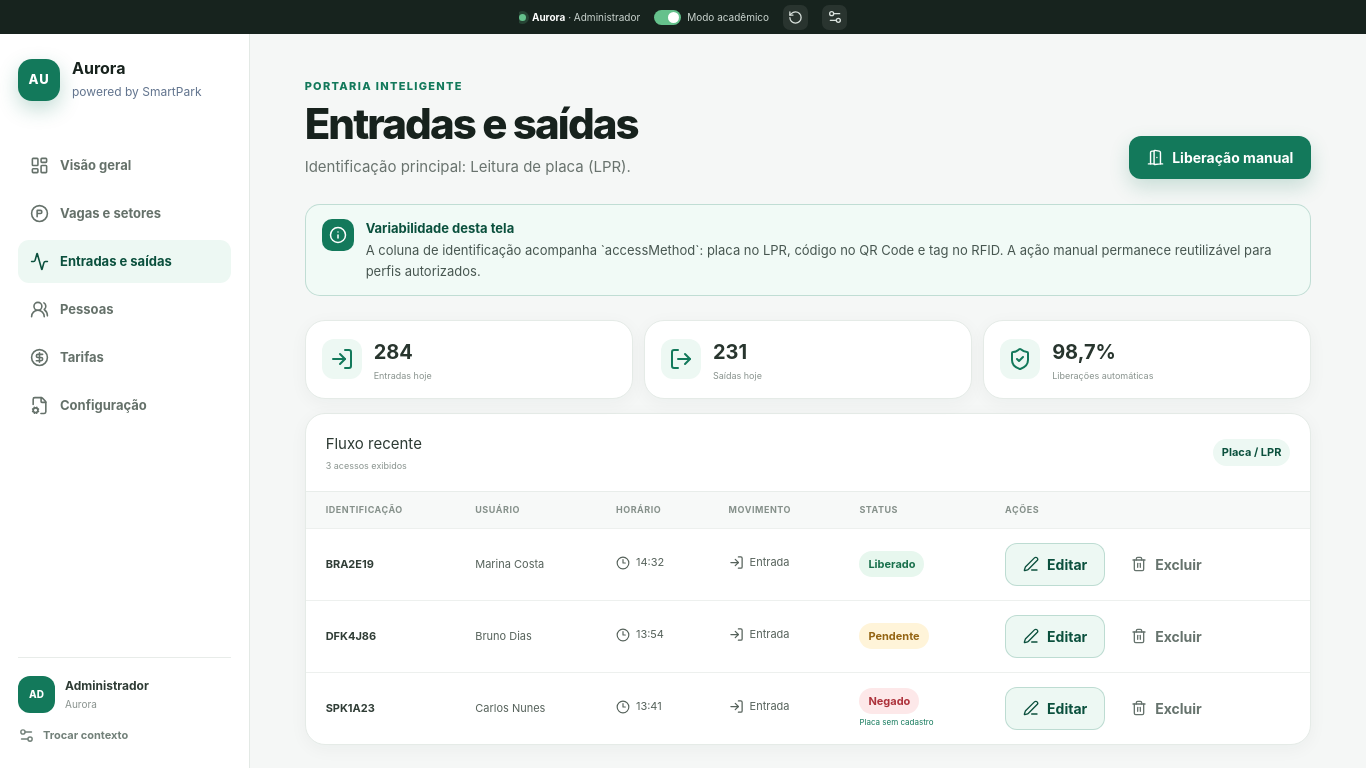
acessos (entradas e saídas) › não deixa mudar o status de um acesso já decidido
The width and height of the screenshot is (1366, 768).
Click the button with aria-label "Editar acesso de Marina Costa".
click(1055, 564)  # box [1005,543,1105,586]
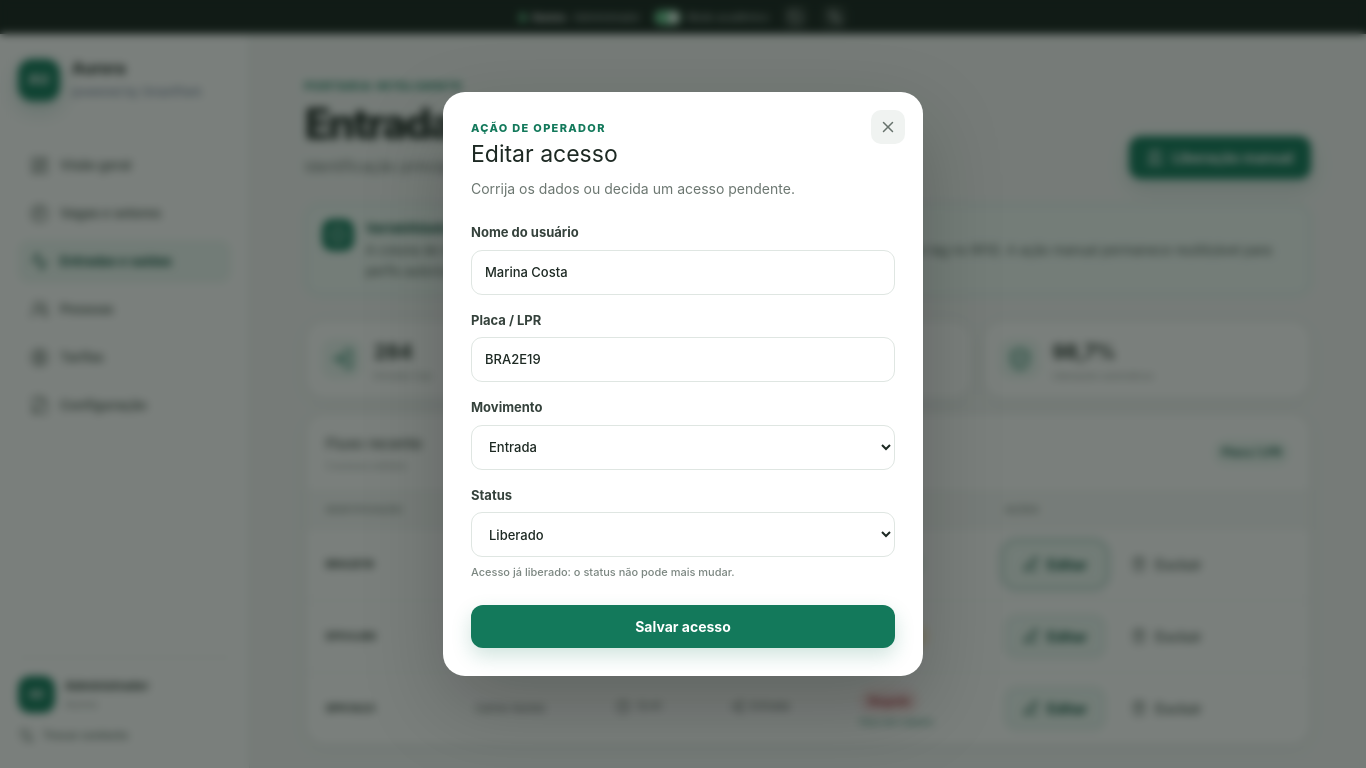
Check: the dropdown labelled "Status Acesso já liberado: o status não pode mais mudar." is disabled, box [471,512,895,557]
Check: the text "Acesso já liberado: o status não pode mais mudar." is shown, box [471,565,735,579]
